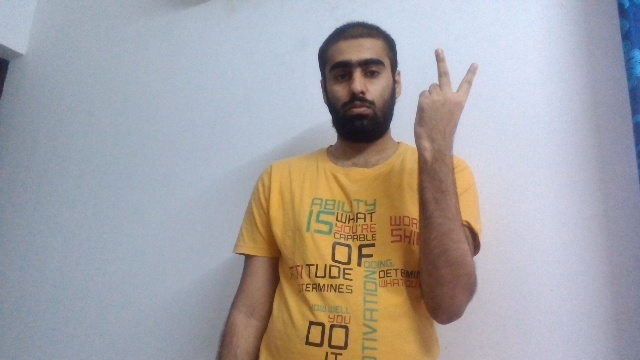scissors: (412, 47, 479, 155)
